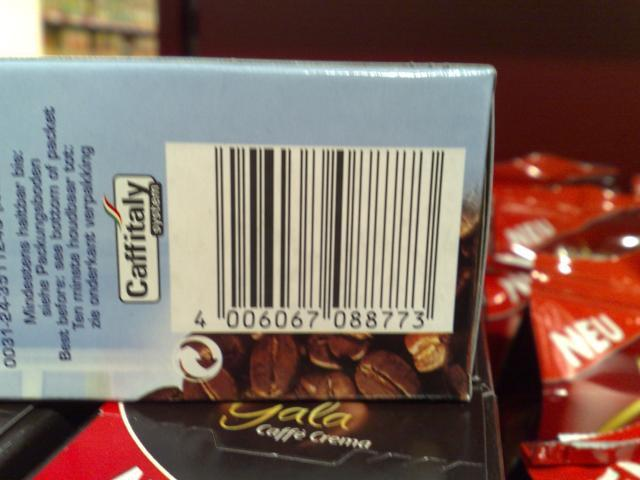Barcode: (188, 144, 452, 337)
